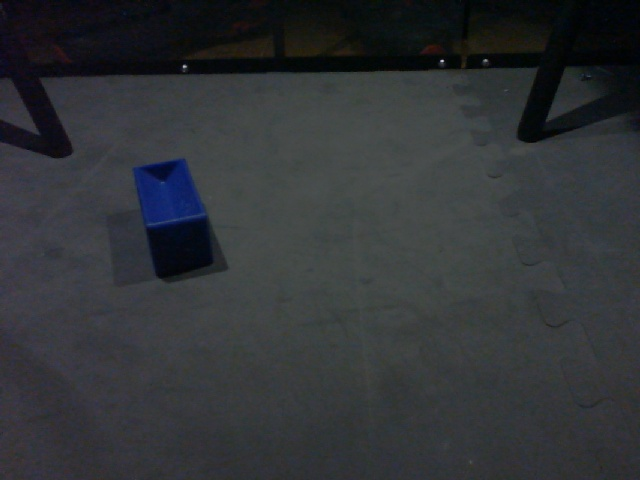BlueSample: (132, 157, 214, 282)
